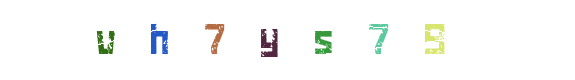7: (180, 0, 260, 80), (269, 0, 349, 80)
9: (358, 0, 438, 80)
H: (178, 0, 258, 80)
S: (248, 0, 328, 80)
V: (118, 0, 198, 80)
Y: (229, 0, 309, 80)
